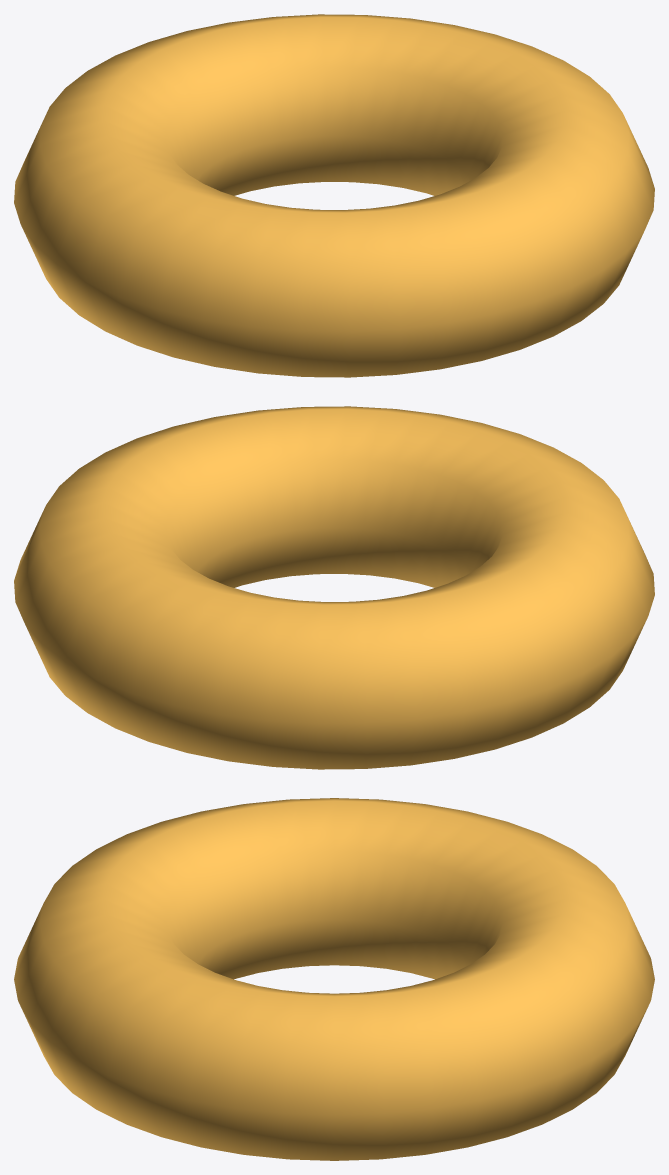
File: torus-lite.glb
3 renders of one model, top to bottom at view 1: azimuth 30°, elevation 25°; view 2: azimuth 150°, elevation 25°; view 3: azimuth 270°, elevation 25°, orthographic.
Visible parts, largest first — view 1: Torus; view 2: Torus; view 3: Torus.
Part boxes in pixels (left/top/right/bottom): Torus: left=14, top=14, right=654, bottom=377; Torus: left=14, top=406, right=654, bottom=769; Torus: left=14, top=798, right=654, bottom=1160.
Bounding box in the file's own units: 1.8 × 0.5 × 1.8.
